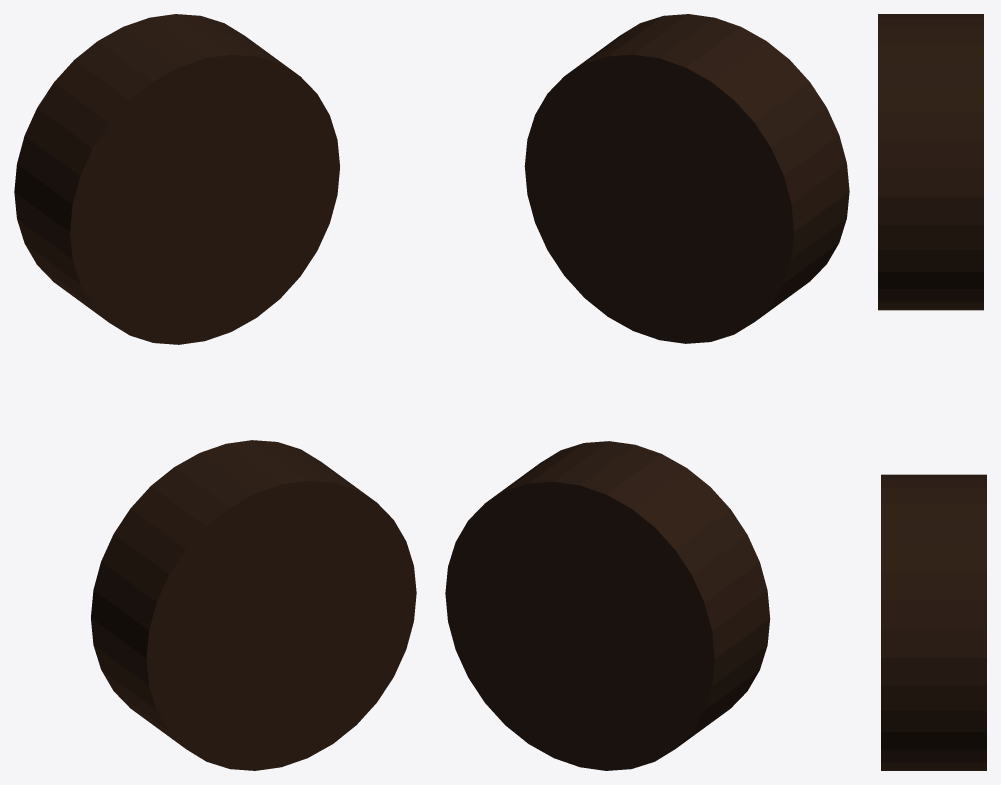
File: botonesTv.obj
3 views of the same model, side by side, from view 1: azimuth 30°, elevation 25°; view 2: azimuth 150°, elevation 25°; view 3: azimuth 270°, elevation 25° (orthographic). The views are drawn at different scales.
Visible parts, largest first — view 1: CylinderFBXASC046001, Cylinder; view 2: CylinderFBXASC046001, Cylinder; view 3: CylinderFBXASC046001, Cylinder.
Boxes of the visible parts, <box> form: CylinderFBXASC046001: <box>91,440,416,770</box>; Cylinder: <box>14,14,339,344</box>; CylinderFBXASC046001: <box>445,441,770,770</box>; Cylinder: <box>524,14,849,343</box>; CylinderFBXASC046001: <box>881,474,986,770</box>; Cylinder: <box>878,14,983,310</box>.
Bounding box in the file's own units: 23.46 × 46.94 × 6.68.
Materials: 1 (1 with a texture image).
